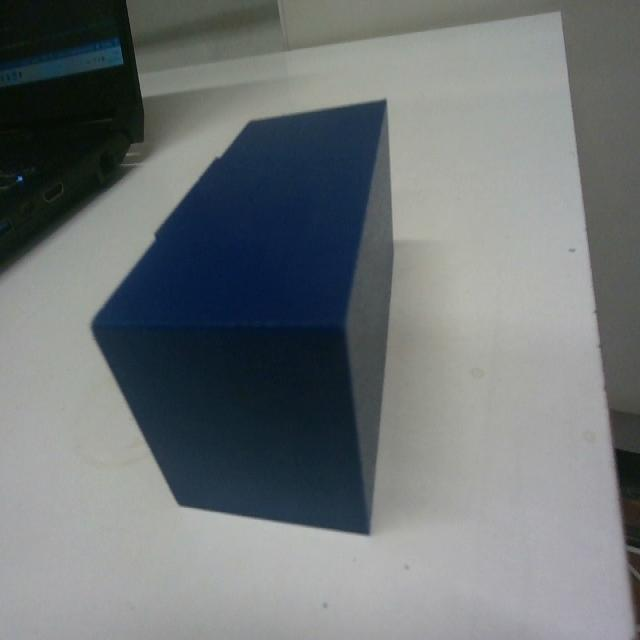Blue Cuboid: (90, 95, 397, 536)
